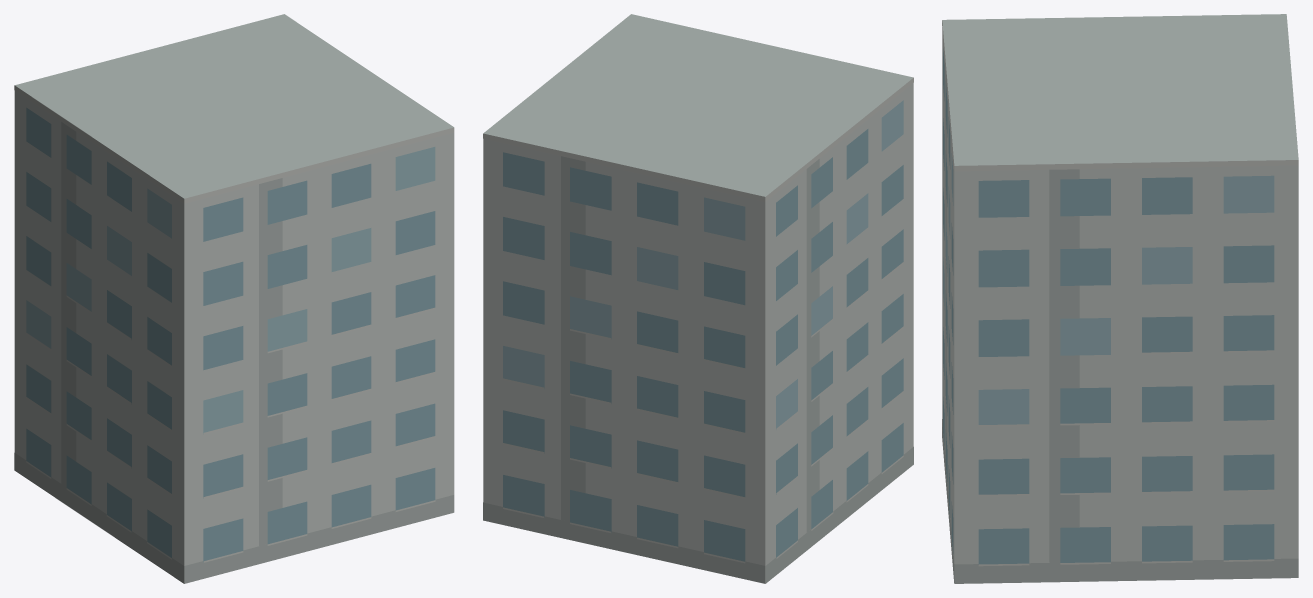
Rendered from survey-upis-32696716.glb.
The picture shows the model from 3 angles, left to right: view 1: azimuth 30°, elevation 25°; view 2: azimuth 150°, elevation 25°; view 3: azimuth 270°, elevation 25°; orthographic projection. The views are drawn at different scales.
Parts seen in each view (by area): view 1: survey-upis-32696716.tmp; view 2: survey-upis-32696716.tmp; view 3: survey-upis-32696716.tmp.
Part boxes in pixels (x1,y1,x2,y2): survey-upis-32696716.tmp: (14,14,454,583); survey-upis-32696716.tmp: (483,14,913,583); survey-upis-32696716.tmp: (942,14,1298,583).
Bounding box in the file's own units: 14.27 × 18.3 × 14.15.
